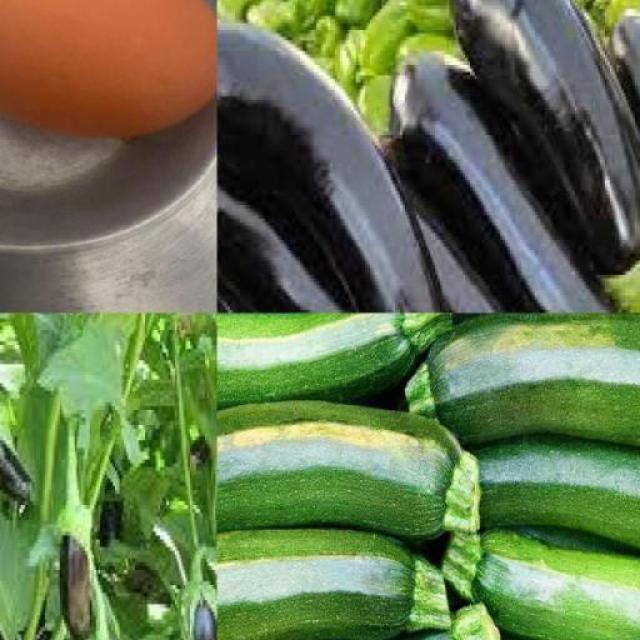Eggplant: (217, 23, 453, 313), (386, 47, 625, 313), (58, 475, 90, 639), (177, 569, 217, 640), (0, 417, 32, 493)
